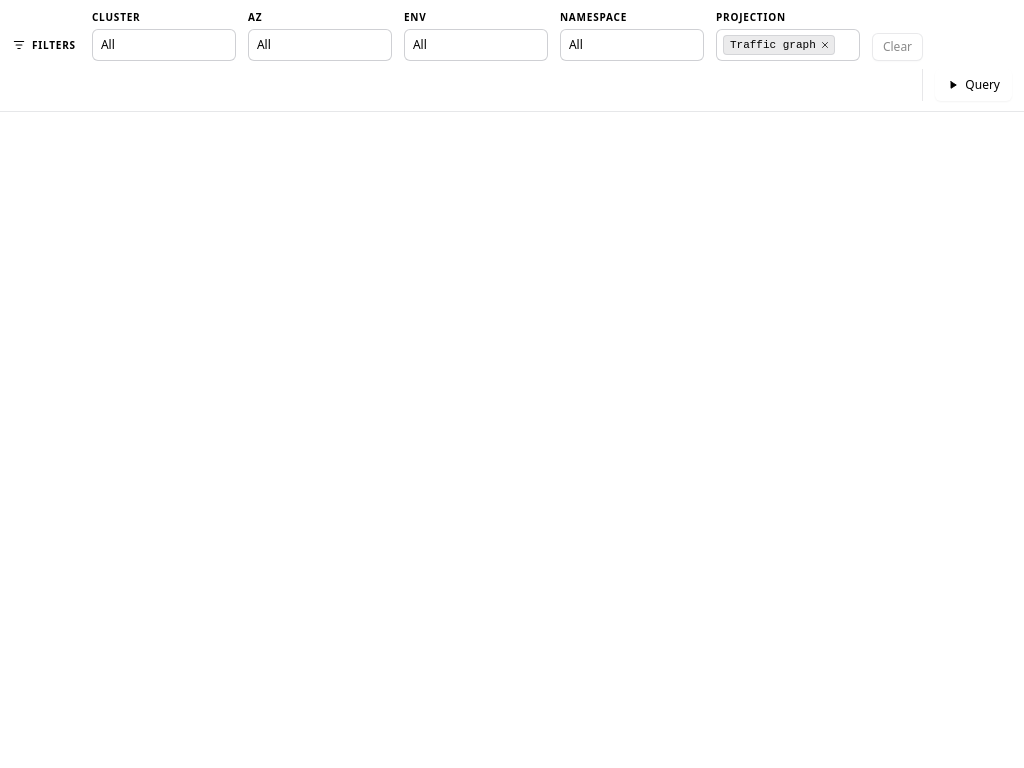
Test: FilterBar › offers the raw cluster name it was given, not a composed identity
The image size is (1024, 768).
Step 1. Click the button with aria-label "Cluster" → (164,45), box top-left (92, 29), bottom-right (236, 61)
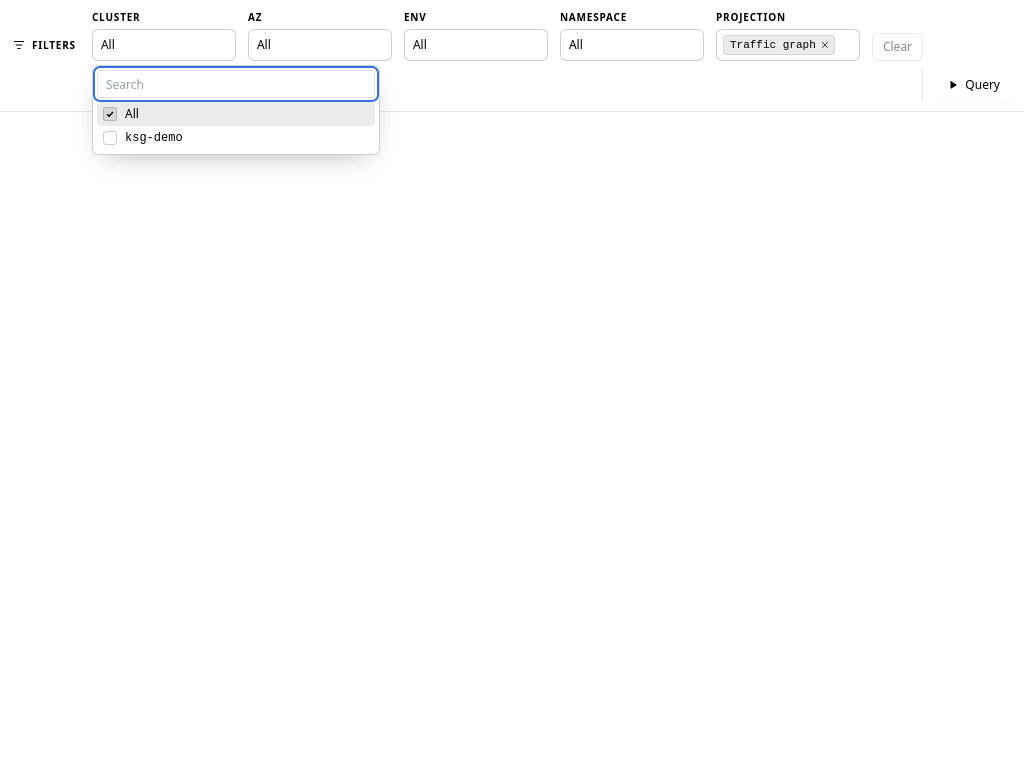
Now the option "ksg-demo" is shown, box top-left (103, 131), bottom-right (183, 145)
